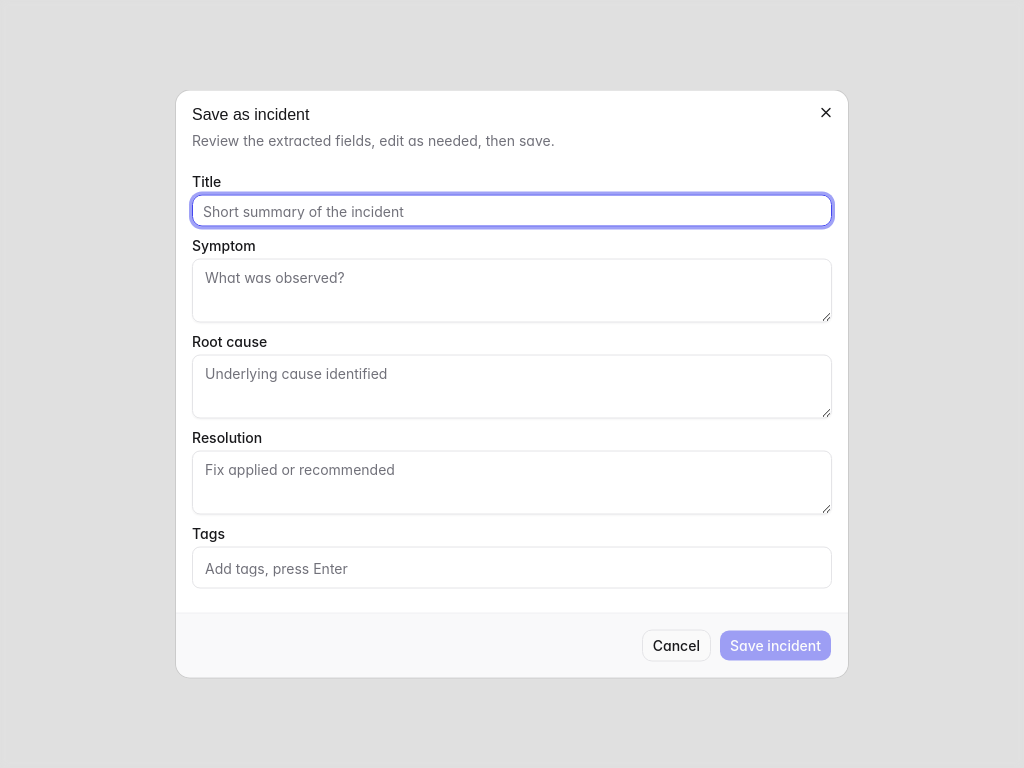
SaveAsIncidentDialog › shows save error when createIncident rejects
Type "t" into the field with test id "incident-title" at (512, 210), box [192, 194, 832, 226]
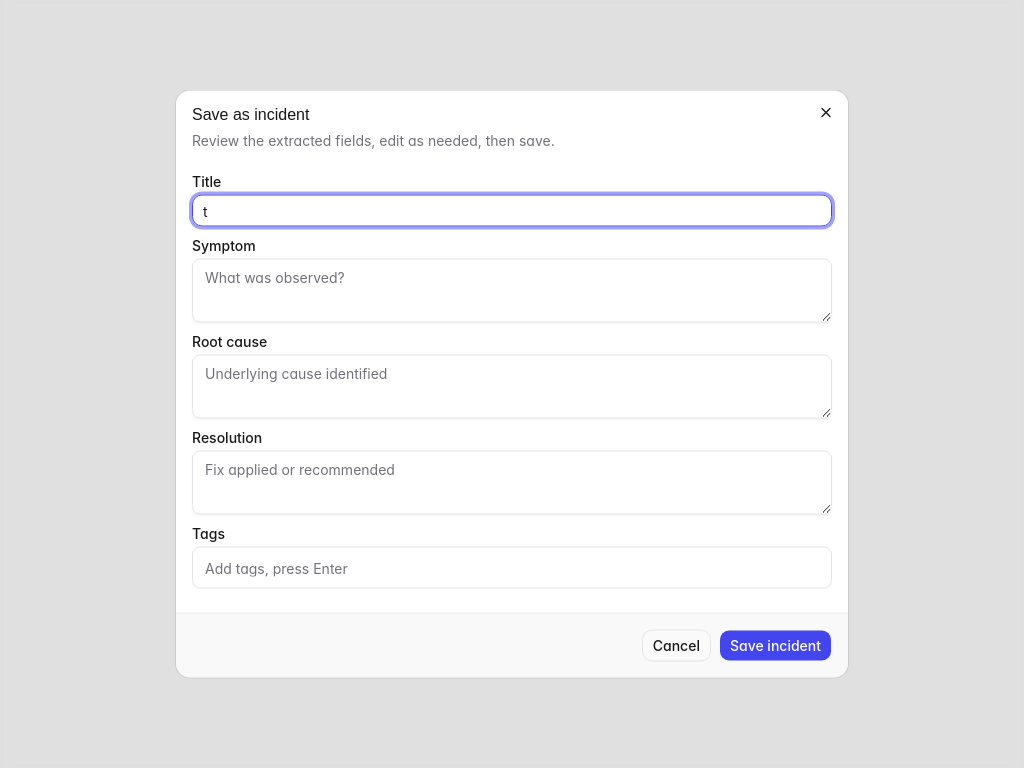
Click the button with test id "incident-save-button" at (775, 646), box [719, 630, 832, 662]
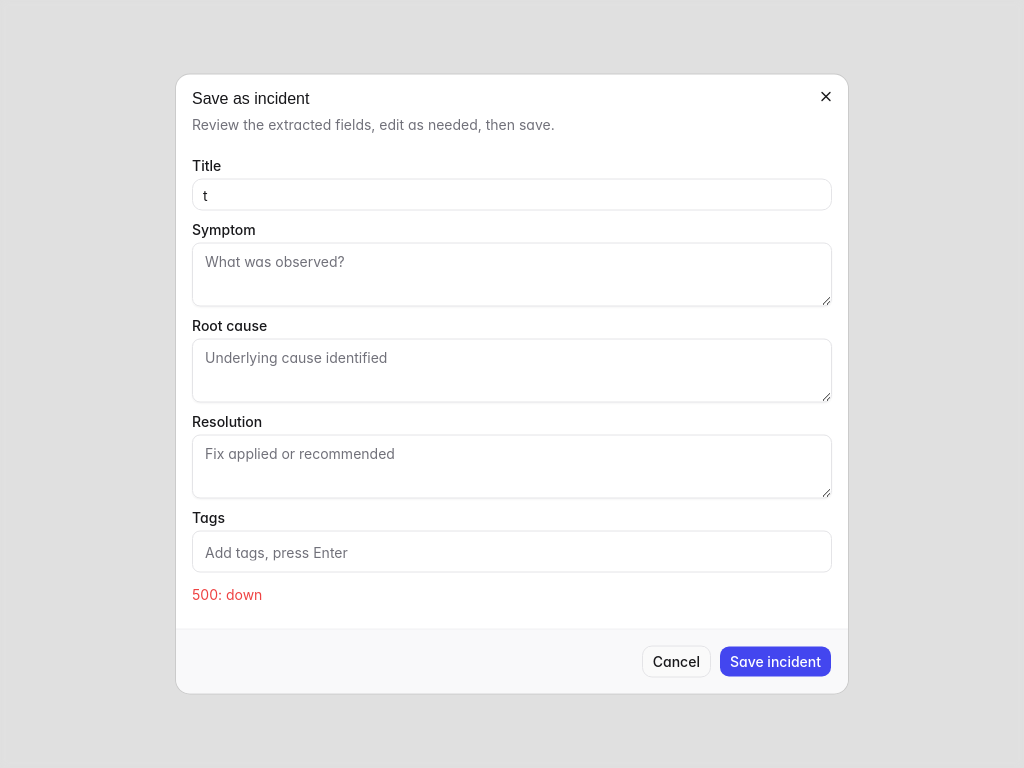
Result: the message reads "500: down" at [192, 586, 262, 602]
